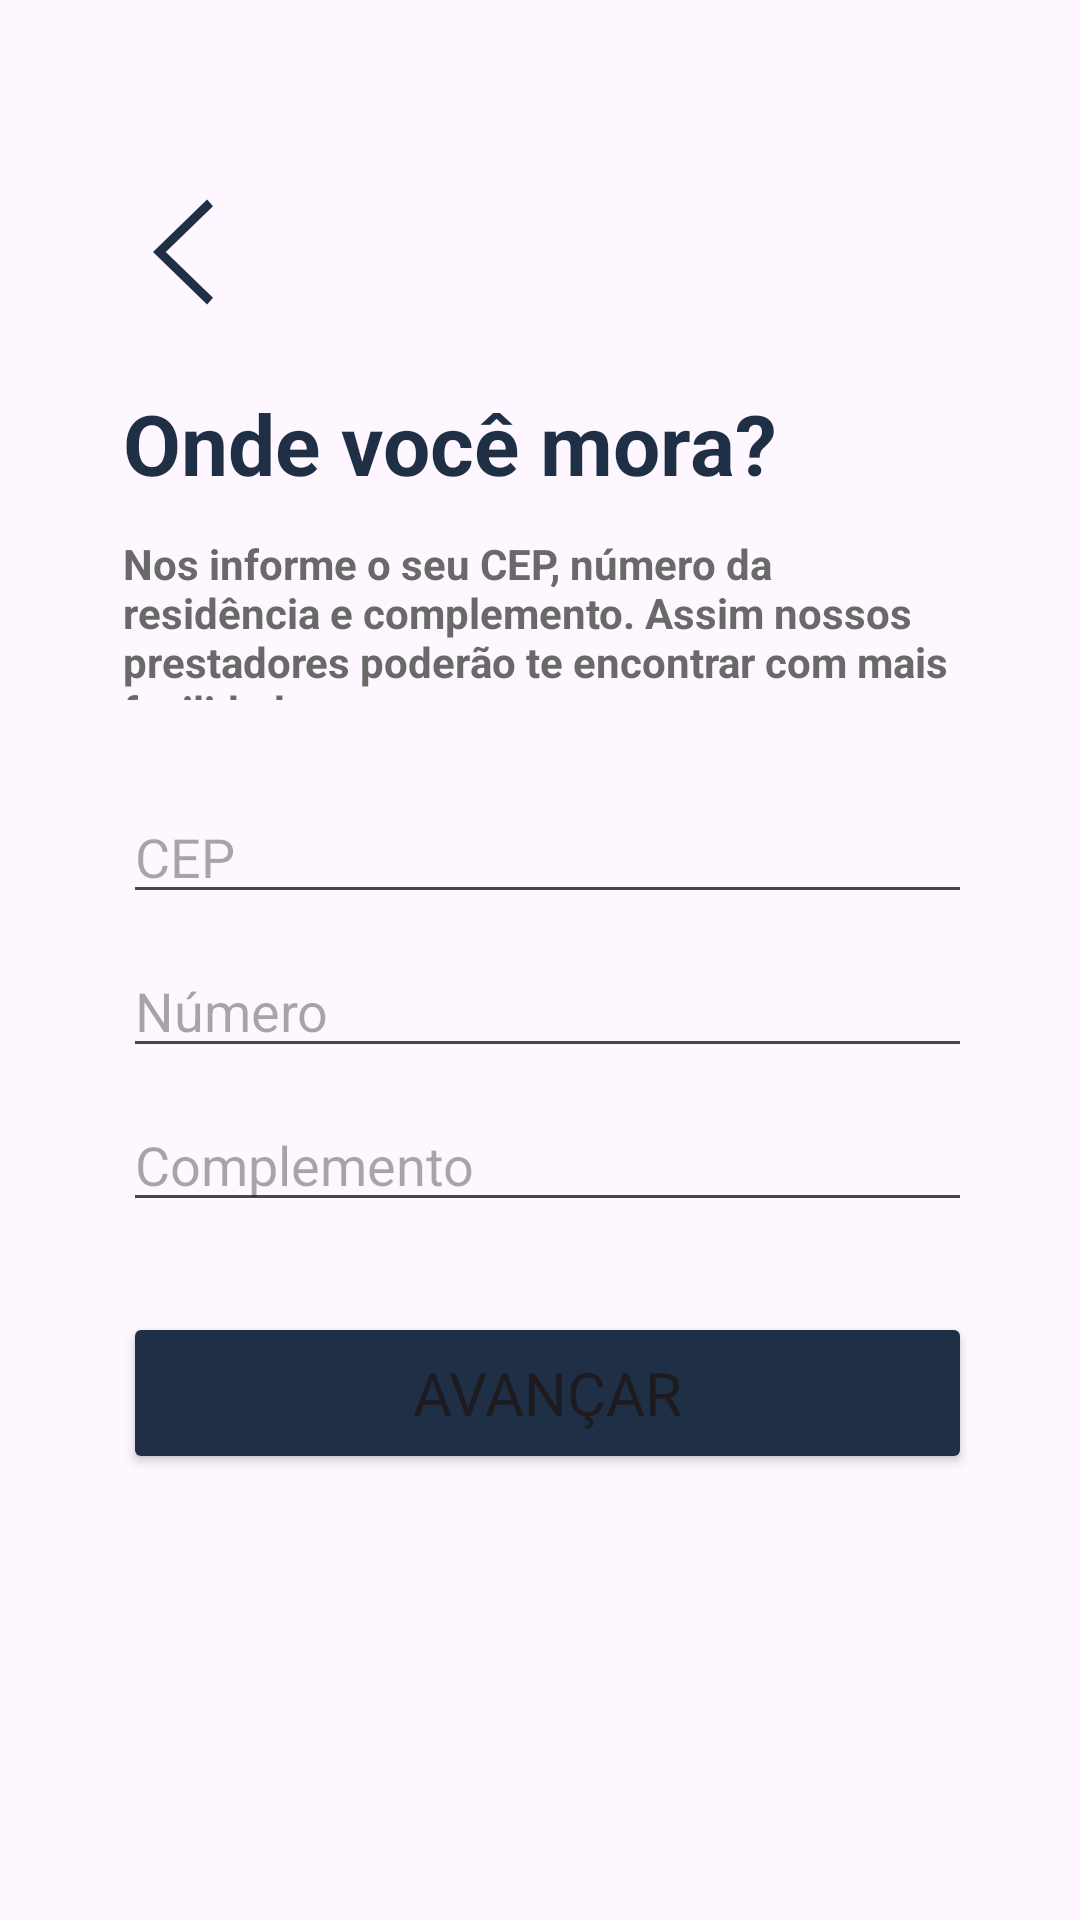

Screen size 1080 x 1920. Icon name, then its center in pixels as [x,y]:
icseta esquerda: [183,252]
